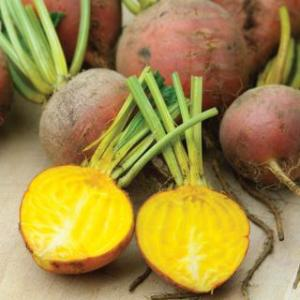beet: (118, 0, 246, 110), (34, 68, 146, 180), (20, 168, 130, 268), (140, 189, 250, 285), (218, 81, 300, 191)
